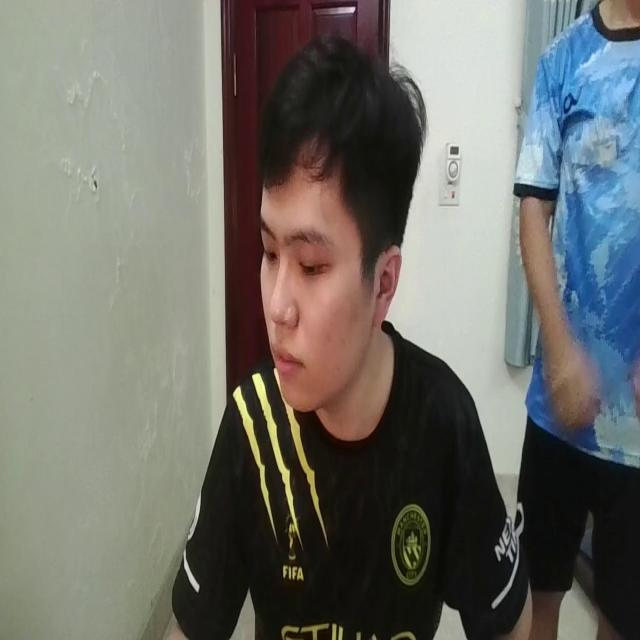extra_person: (508, 2, 640, 640)
student: (156, 33, 532, 640)
